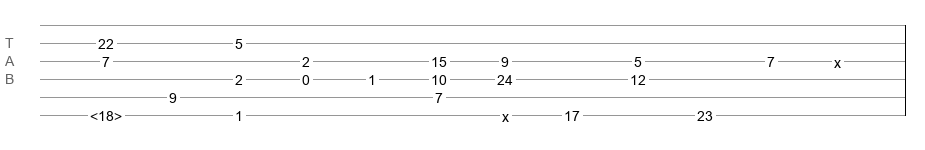0: (302, 72, 310, 82)
1: (235, 108, 243, 118), (368, 72, 376, 82)
10: (431, 72, 447, 82)
12: (630, 72, 646, 82)
15: (431, 54, 447, 64)
17: (564, 108, 580, 118)
2: (235, 72, 243, 82), (302, 54, 310, 64)
22: (98, 36, 114, 46)
23: (697, 108, 713, 118)
24: (497, 72, 513, 82)
5: (235, 36, 243, 46), (634, 54, 642, 64)
7: (102, 54, 110, 64), (435, 90, 443, 100), (767, 54, 775, 64)
9: (169, 90, 177, 100), (501, 54, 509, 64)
harmonic: (90, 108, 122, 118)
x: (502, 109, 509, 117), (834, 55, 841, 63)
